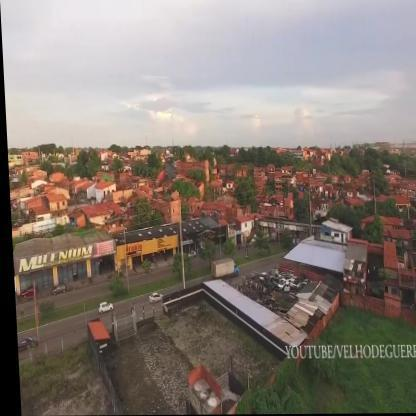lixo: (240, 275, 267, 301), (270, 268, 295, 291)
